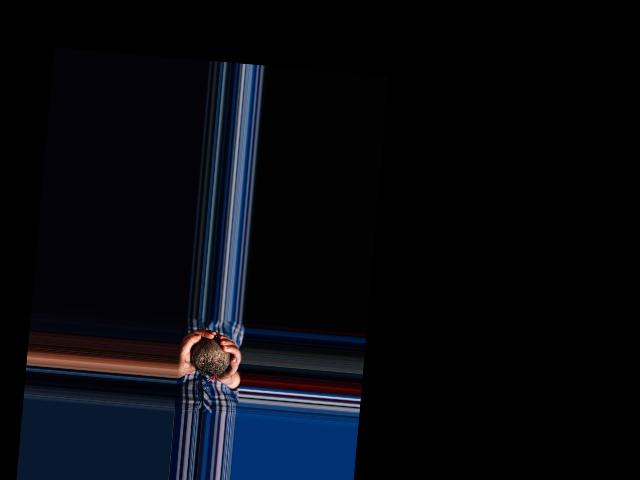beet: (188, 336, 231, 383)
